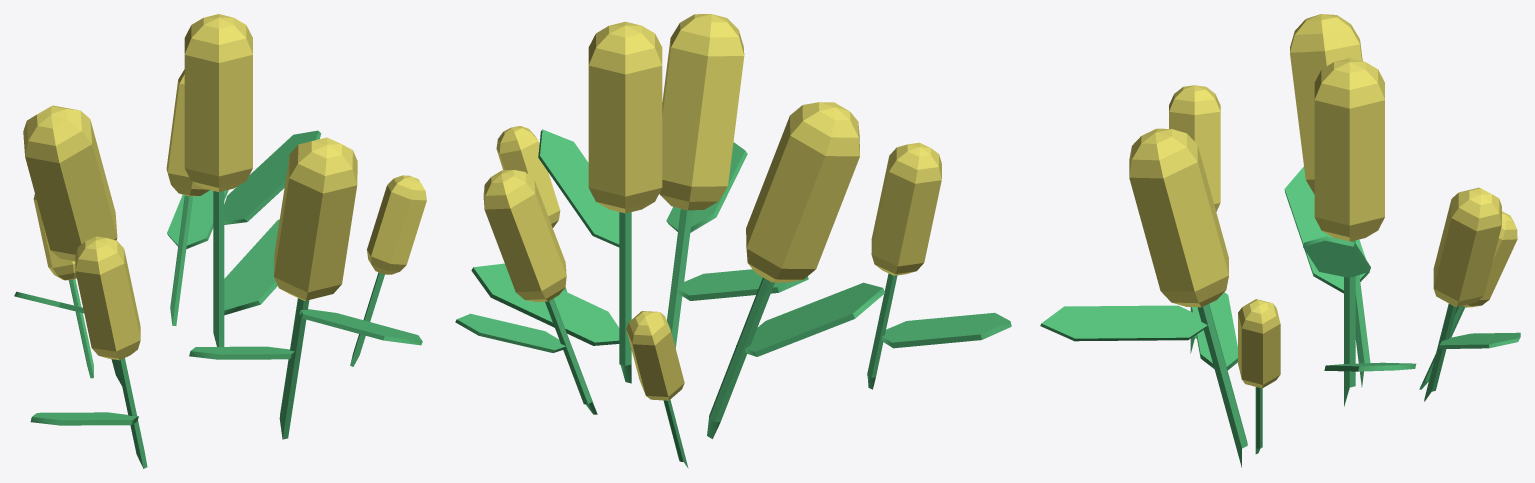
Rendered from flower.fbx.
3 renders of one model, left to right at view 1: azimuth 30°, elevation 25°; view 2: azimuth 150°, elevation 25°; view 3: azimuth 270°, elevation 25°, orthographic. The views are drawn at different scales.
Parts seen in each view (by area): view 1: pCube10; view 2: pCube10; view 3: pCube10.
Part boxes in pixels (box(x1,y1,x2,y2)): pCube10: box(14, 14, 426, 468); pCube10: box(455, 14, 1011, 468); pCube10: box(1040, 14, 1520, 467).
Bounding box in the file's own units: 0.5256 × 0.4457 × 0.4873.
